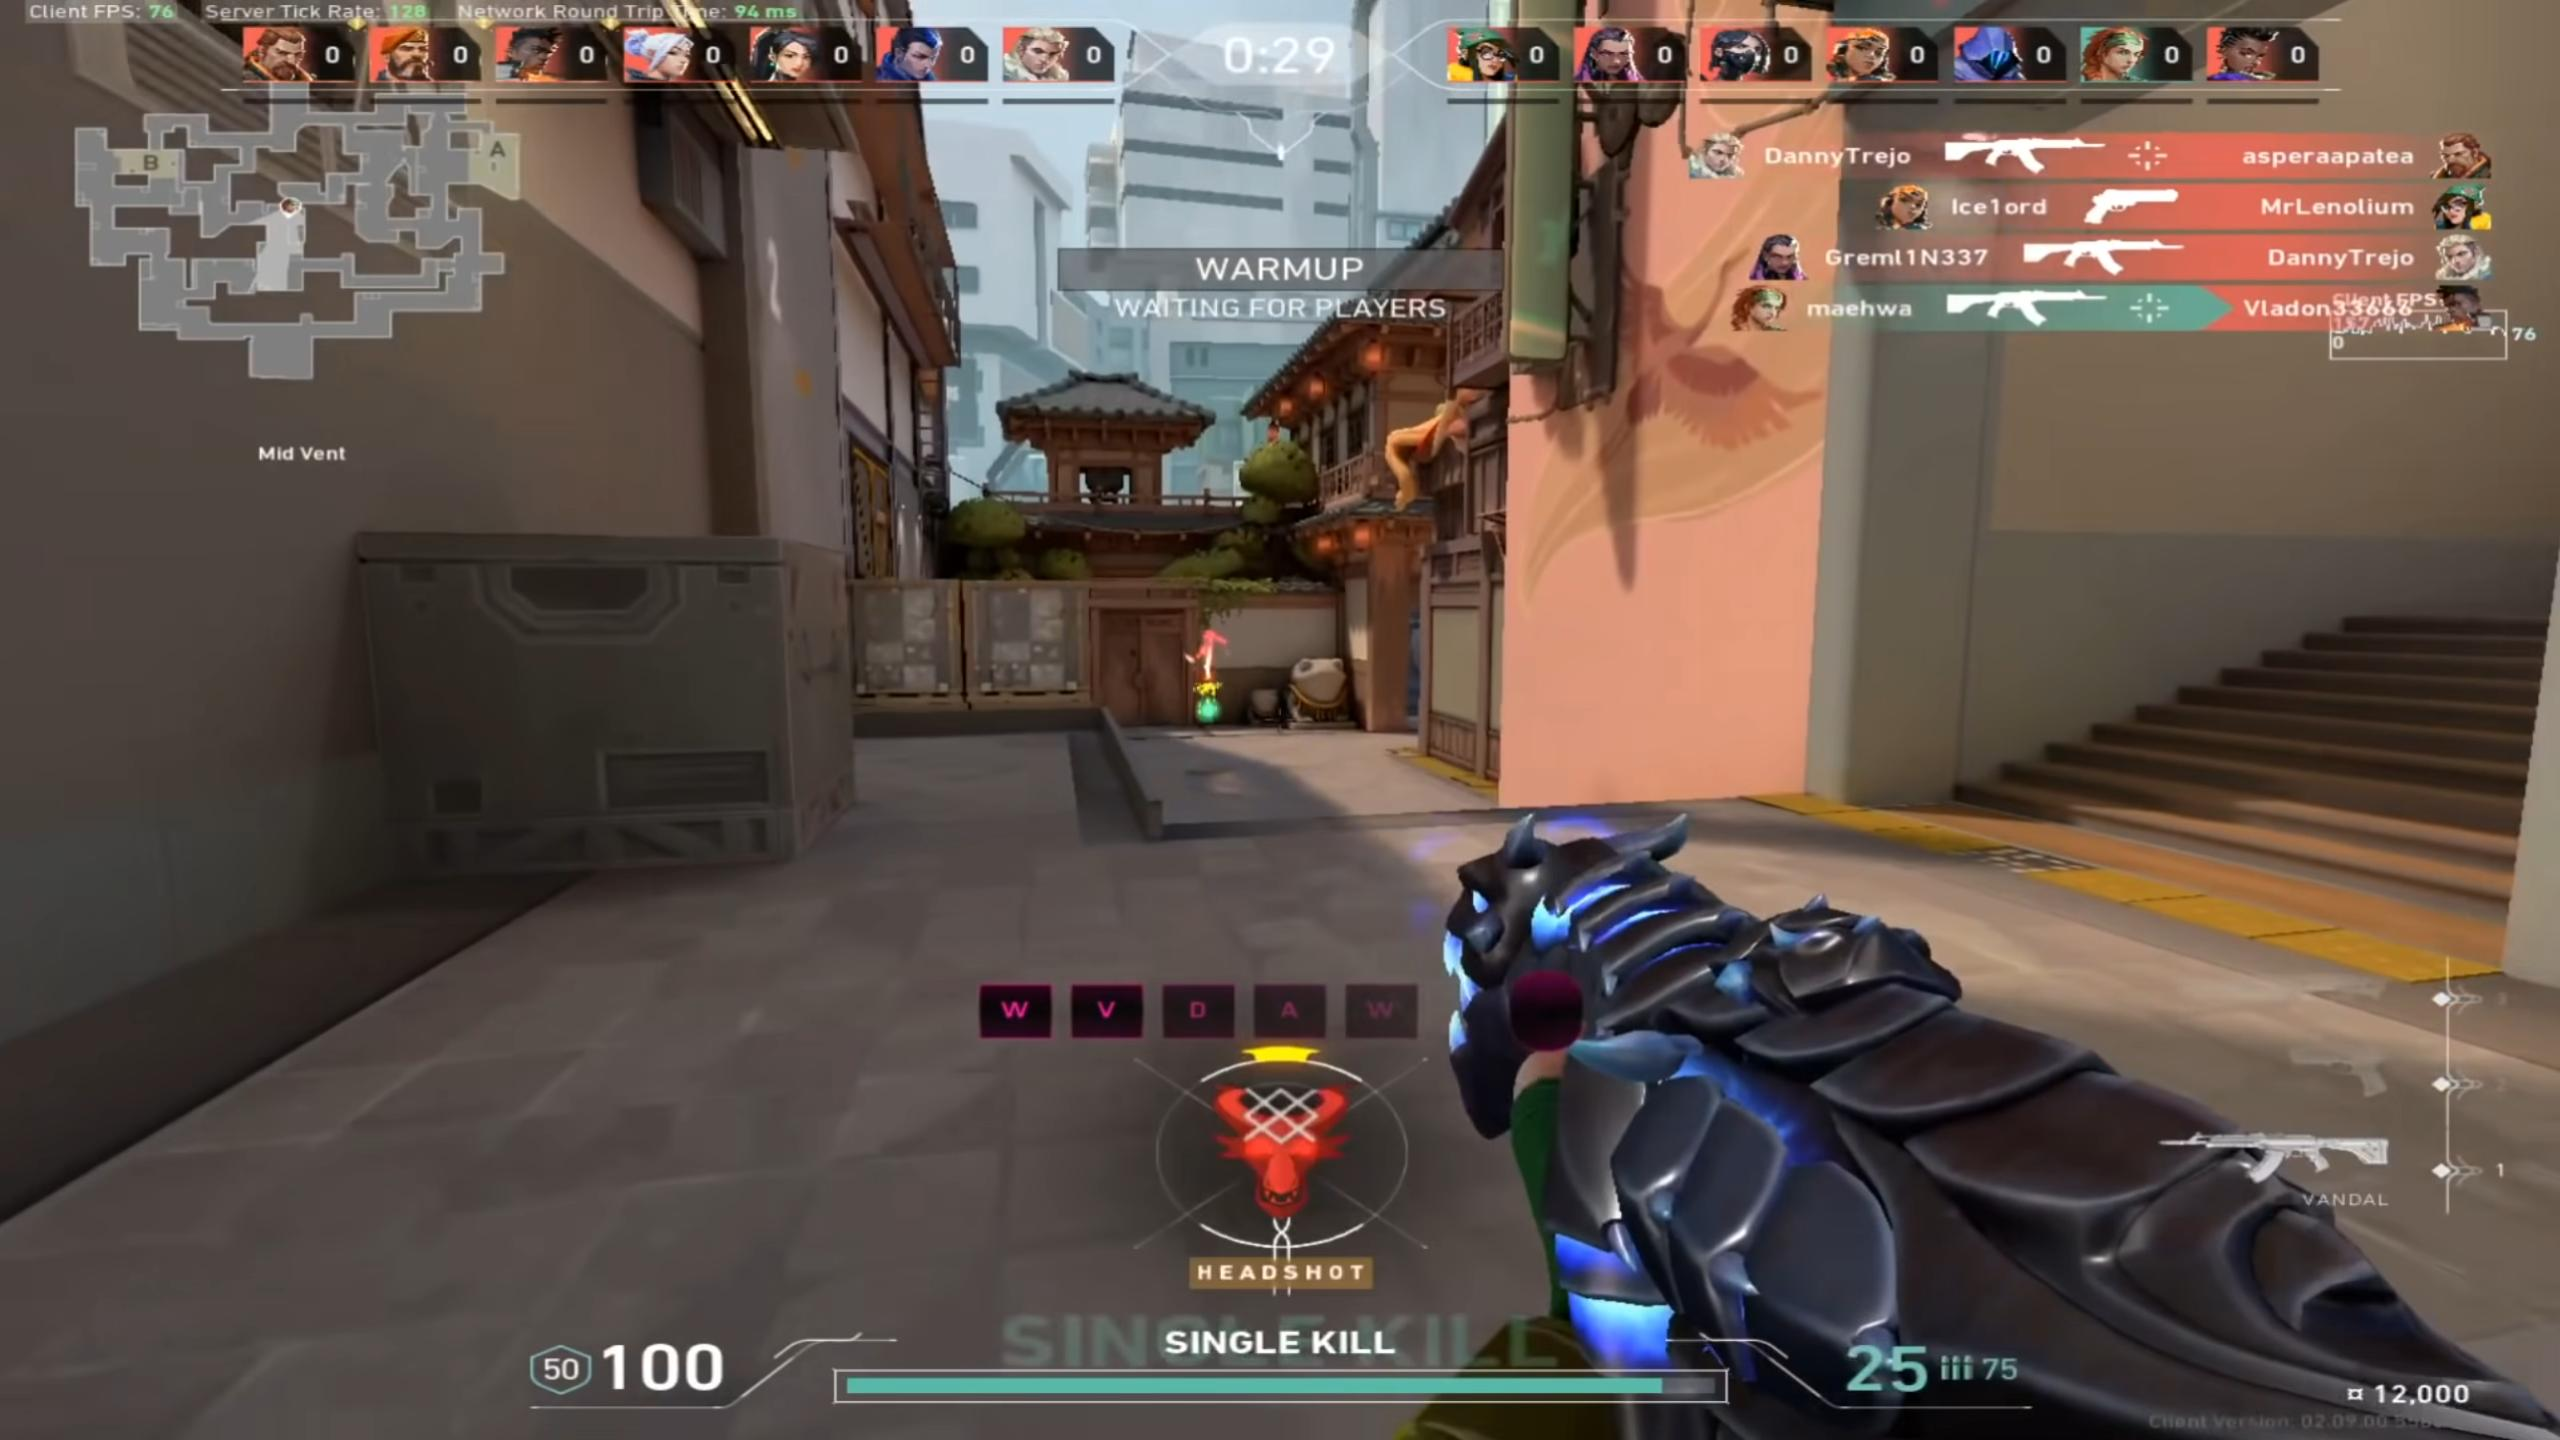enemyHead: (1201, 621, 1222, 666)
